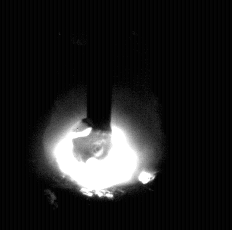arame: (87, 0, 113, 133)
poca: (41, 0, 162, 230)
